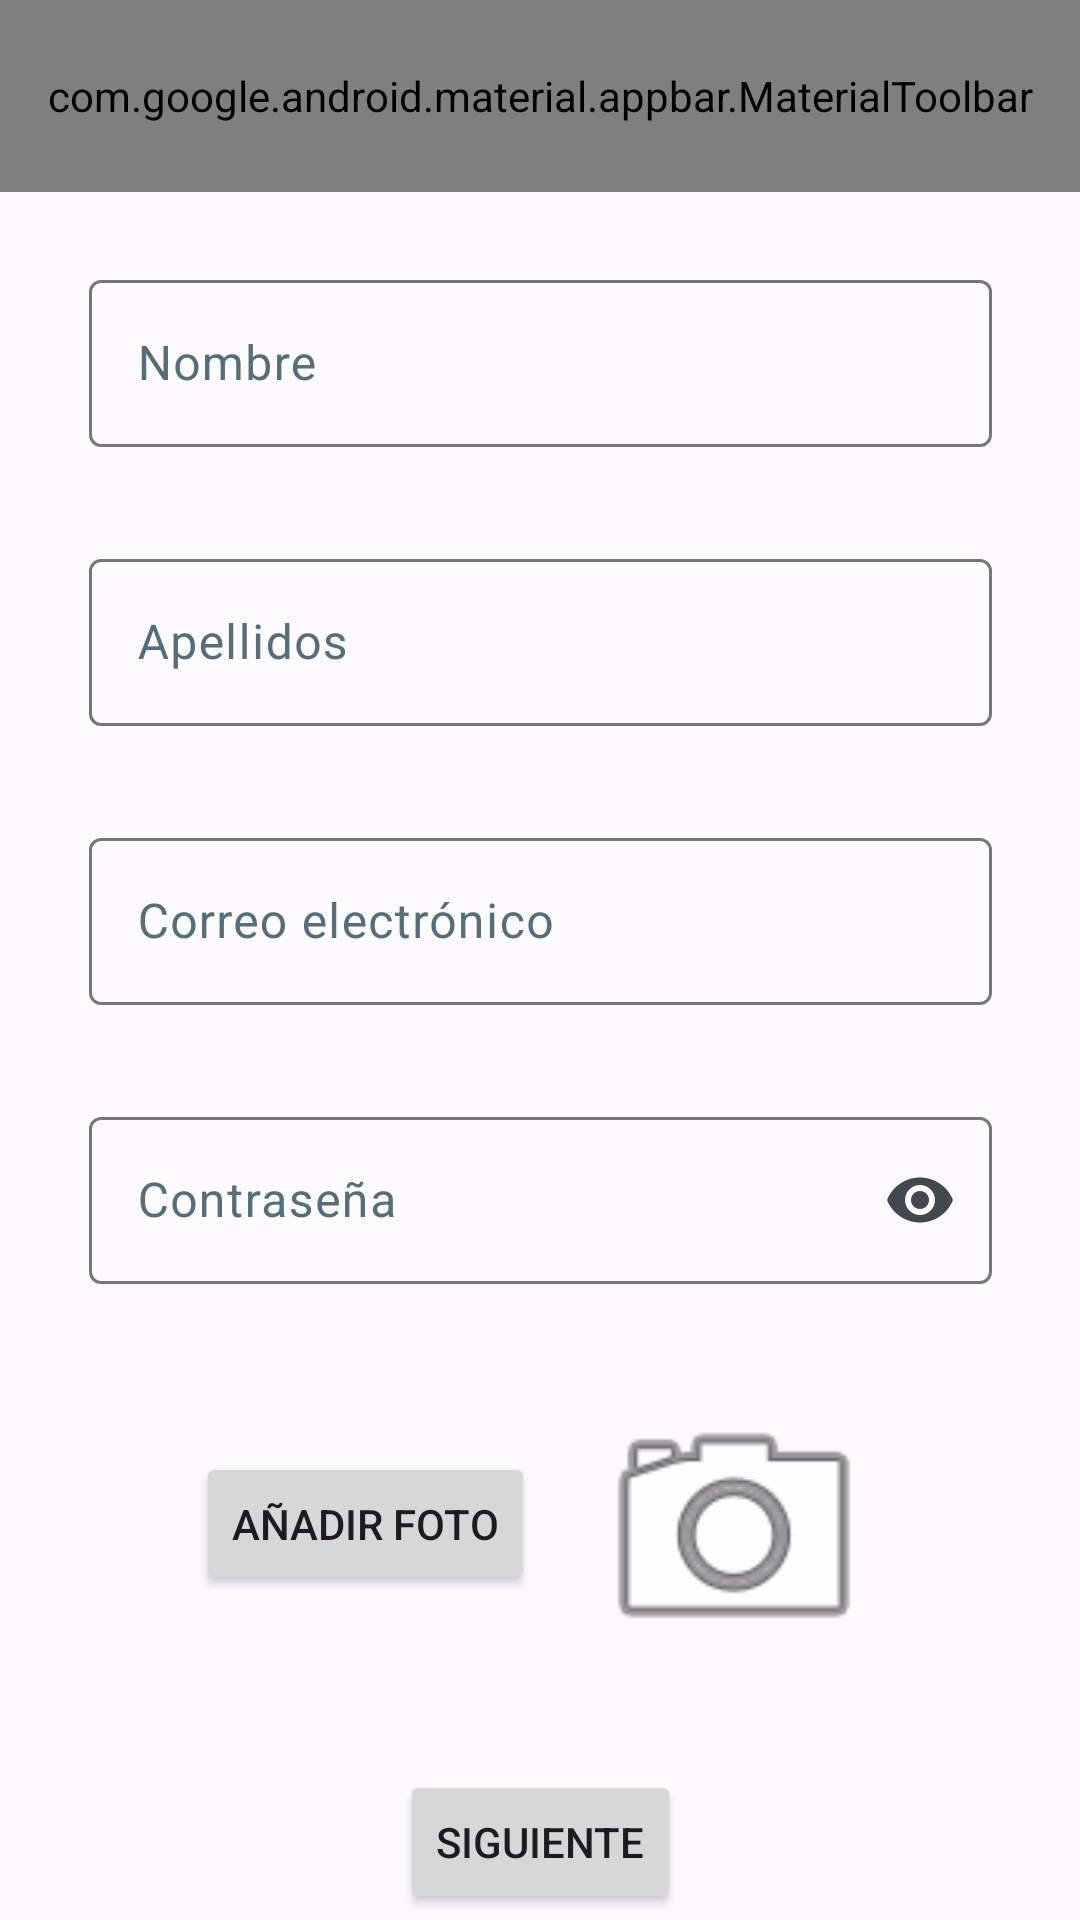

Point at icon controls on the screen. Image size 1080×1920, points as [x,y].
Icono para foto usuario: [734,1525]
